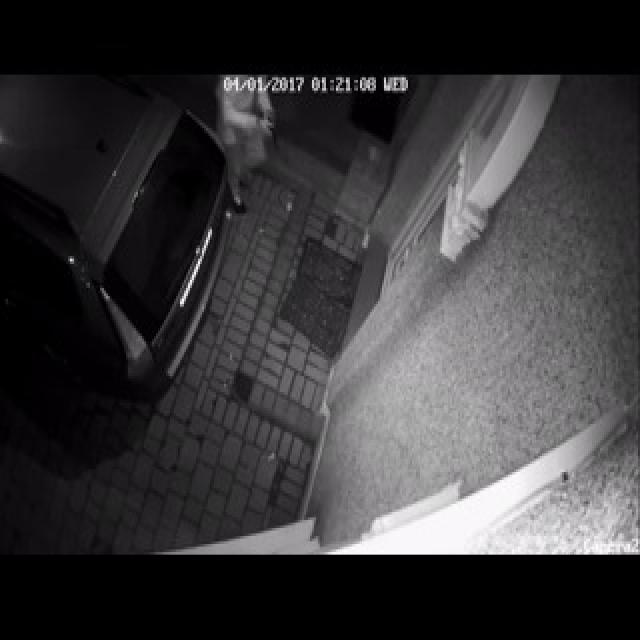thief: (214, 79, 284, 202)
